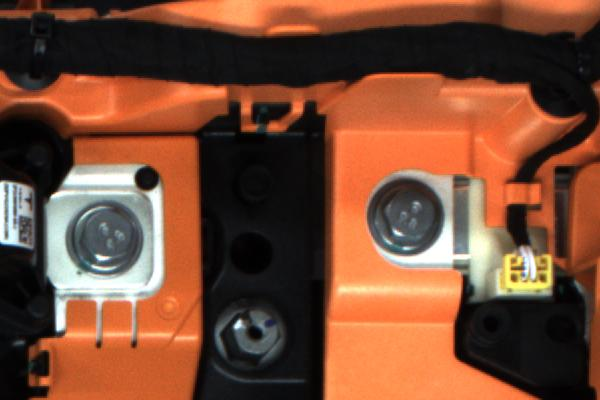nut_b: (359, 177, 445, 262), (66, 200, 150, 282)
